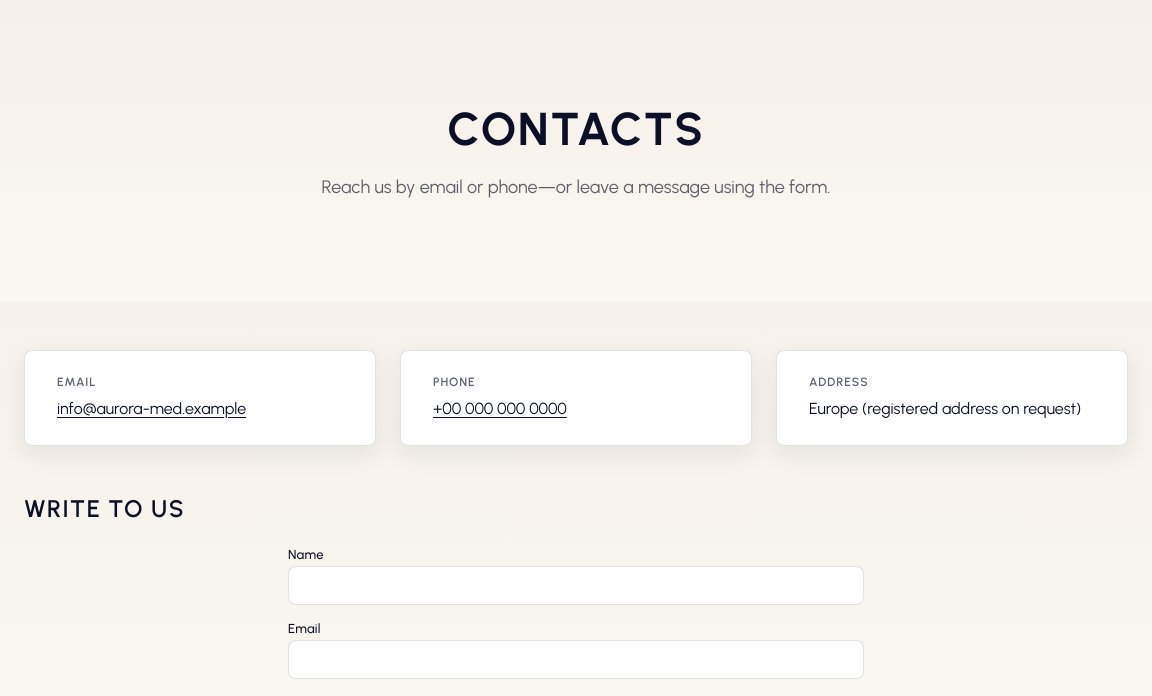
Test: Contacts page › submits via EmailJS and shows success message
Type "Jane Doe" into the field labelled "Name" at {"x": 576, "y": 586}, box [288,566,864,605]
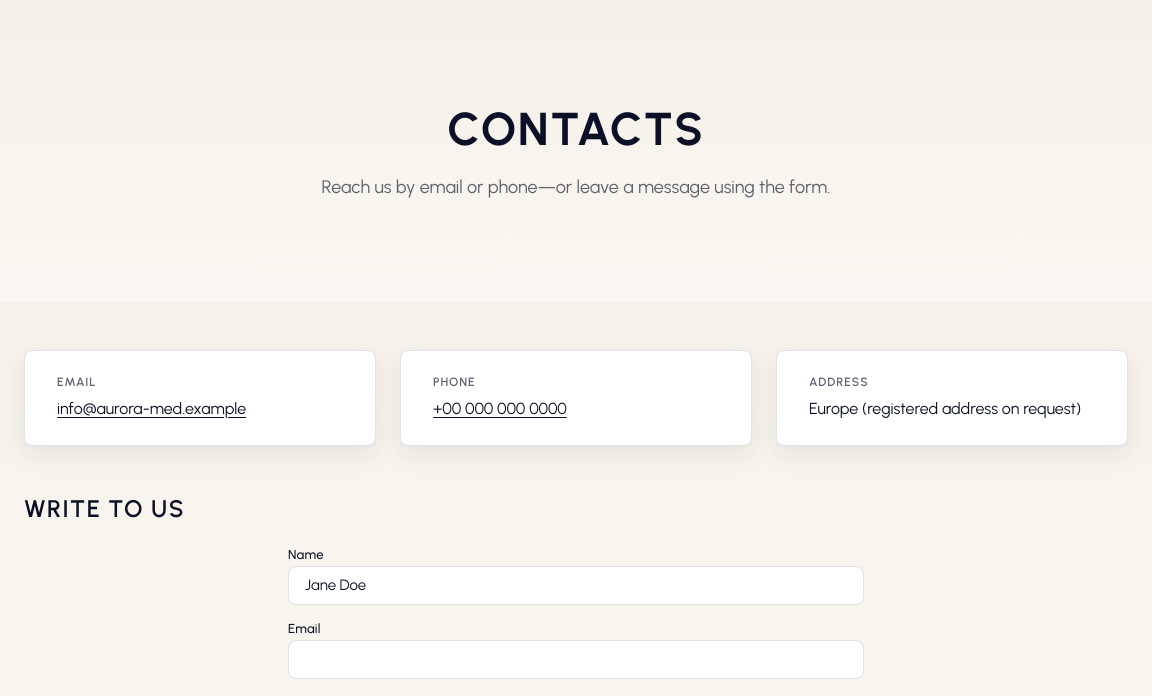
Type "jane@example.com" into the field labelled "Email" at {"x": 576, "y": 660}, box [288,640,864,679]
(page scrolled)
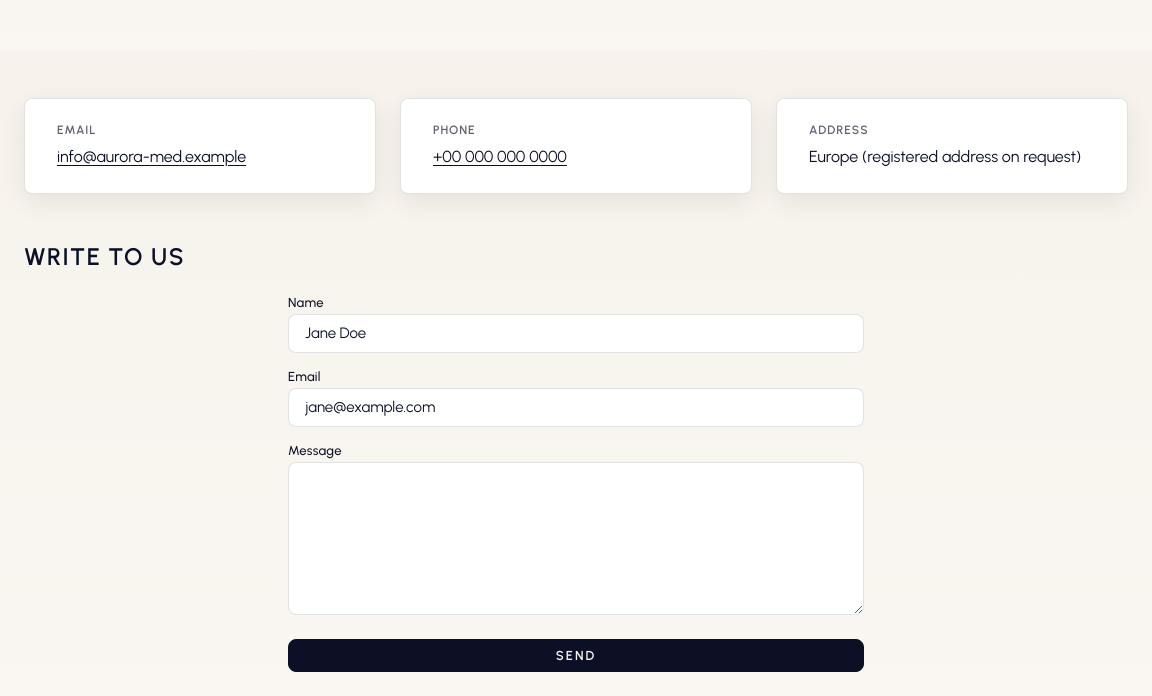
Type "Question about coordination." into the text box labelled "Message" at {"x": 576, "y": 539}, box [288,462,864,615]
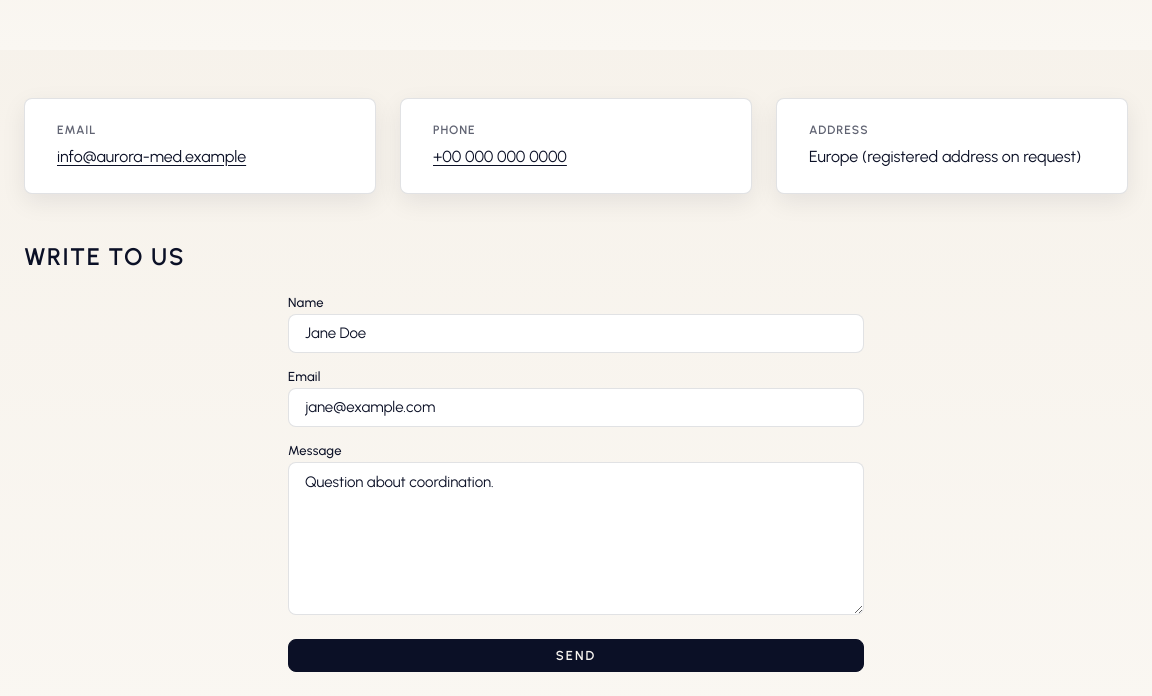
Submit the form with test id "contacts-form", box [288,295,864,672]
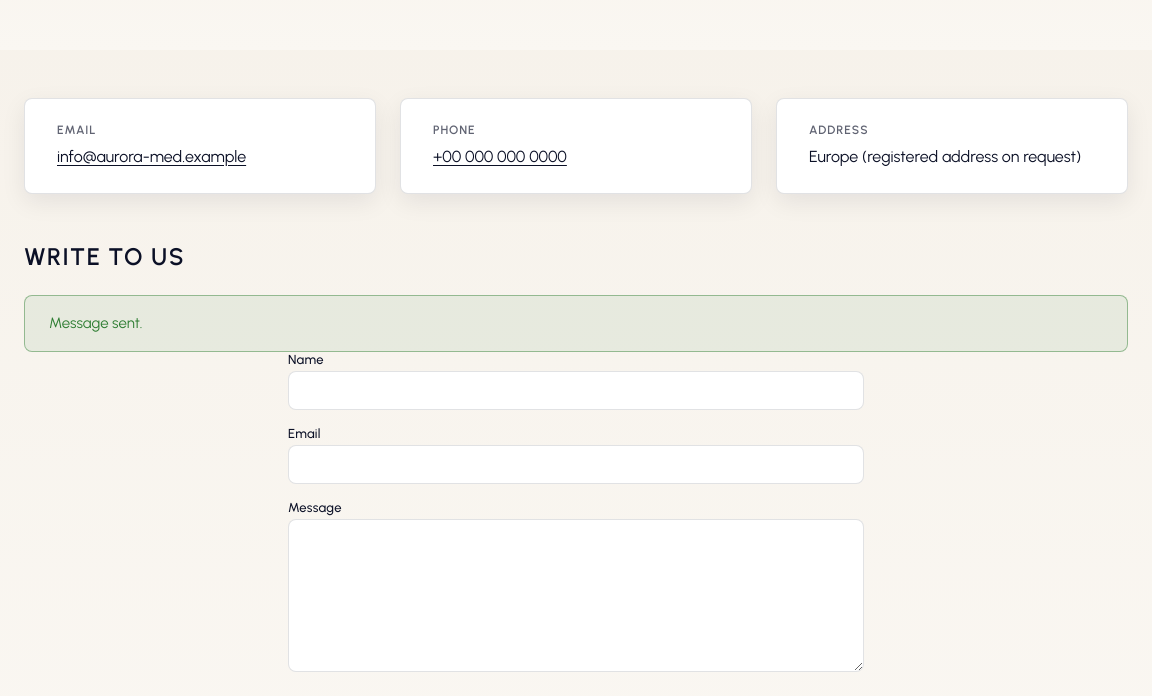
Now the message "Message sent." is shown, box [24,295,1128,352]
